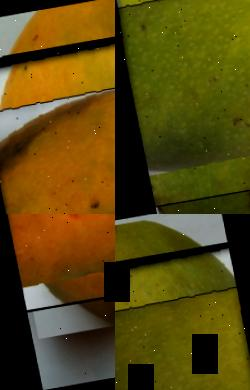PartiallyRipe: (0, 27, 115, 214), (0, 214, 115, 311)
Unripe: (115, 0, 250, 206), (115, 242, 250, 390)
